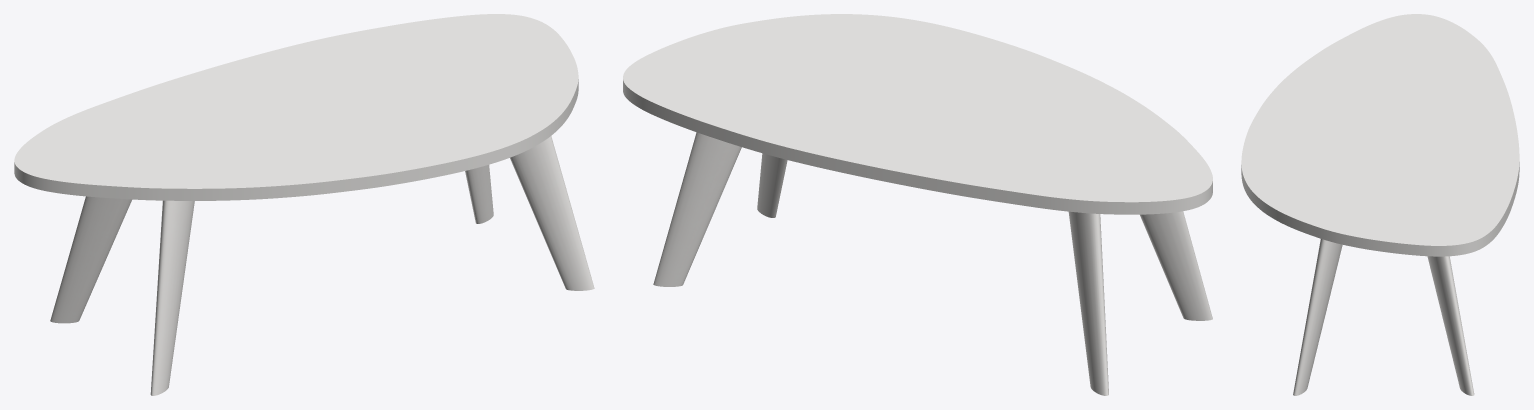
Rendered from purewhite_pebbletop_standard_ferdinantwalnut.glb.
The picture shows the model from 3 angles, left to right: view 1: azimuth 30°, elevation 25°; view 2: azimuth 150°, elevation 25°; view 3: azimuth 270°, elevation 25°; orthographic projection. The views are drawn at different scales.
Parts seen in each view (by area): view 1: standard_pebbletop, ferdinandwalnut; view 2: standard_pebbletop, ferdinandwalnut; view 3: standard_pebbletop, ferdinandwalnut.
Part boxes in pixels (left/top/right/bottom): standard_pebbletop: left=14, top=14, right=578, bottom=200; ferdinandwalnut: left=50, top=136, right=594, bottom=395; standard_pebbletop: left=623, top=14, right=1212, bottom=214; ferdinandwalnut: left=653, top=132, right=1212, bottom=395; standard_pebbletop: left=1241, top=14, right=1519, bottom=256; ferdinandwalnut: left=1293, top=239, right=1474, bottom=395.
Size of the model in its own units: 7.5 by 2.51 by 3.8.
Materials: 1 (1 with a texture image).
